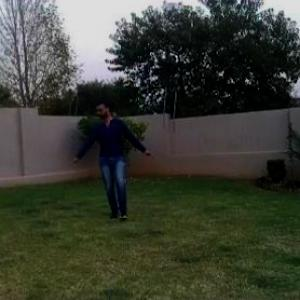land: (51, 81, 161, 232)
